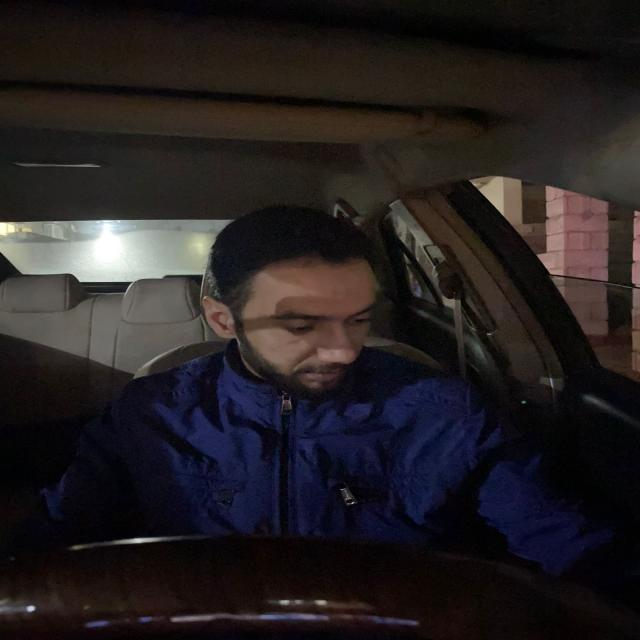person: (190, 202, 395, 417)
